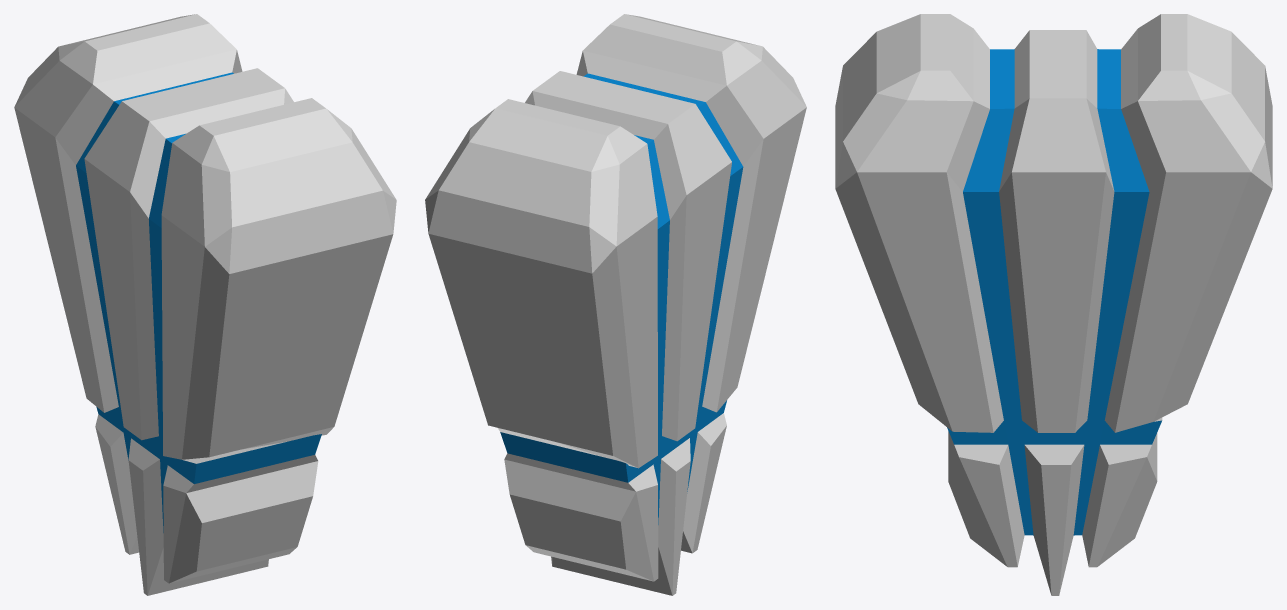
File: Powerup2.fbx
3 views of the same model, side by side, from view 1: azimuth 30°, elevation 25°; view 2: azimuth 150°, elevation 25°; view 3: azimuth 270°, elevation 25° (orthographic). The views are drawn at different scales.
Visible parts, largest first — view 1: Cube; view 2: Cube; view 3: Cube.
Boxes of the visible parts, x1=… form: Cube: x1=14, y1=14, x2=396, y2=595; Cube: x1=425, y1=14, x2=806, y2=595; Cube: x1=835, y1=14, x2=1272, y2=595.
Bounding box in the file's own units: 2 × 5.04 × 3.82.
